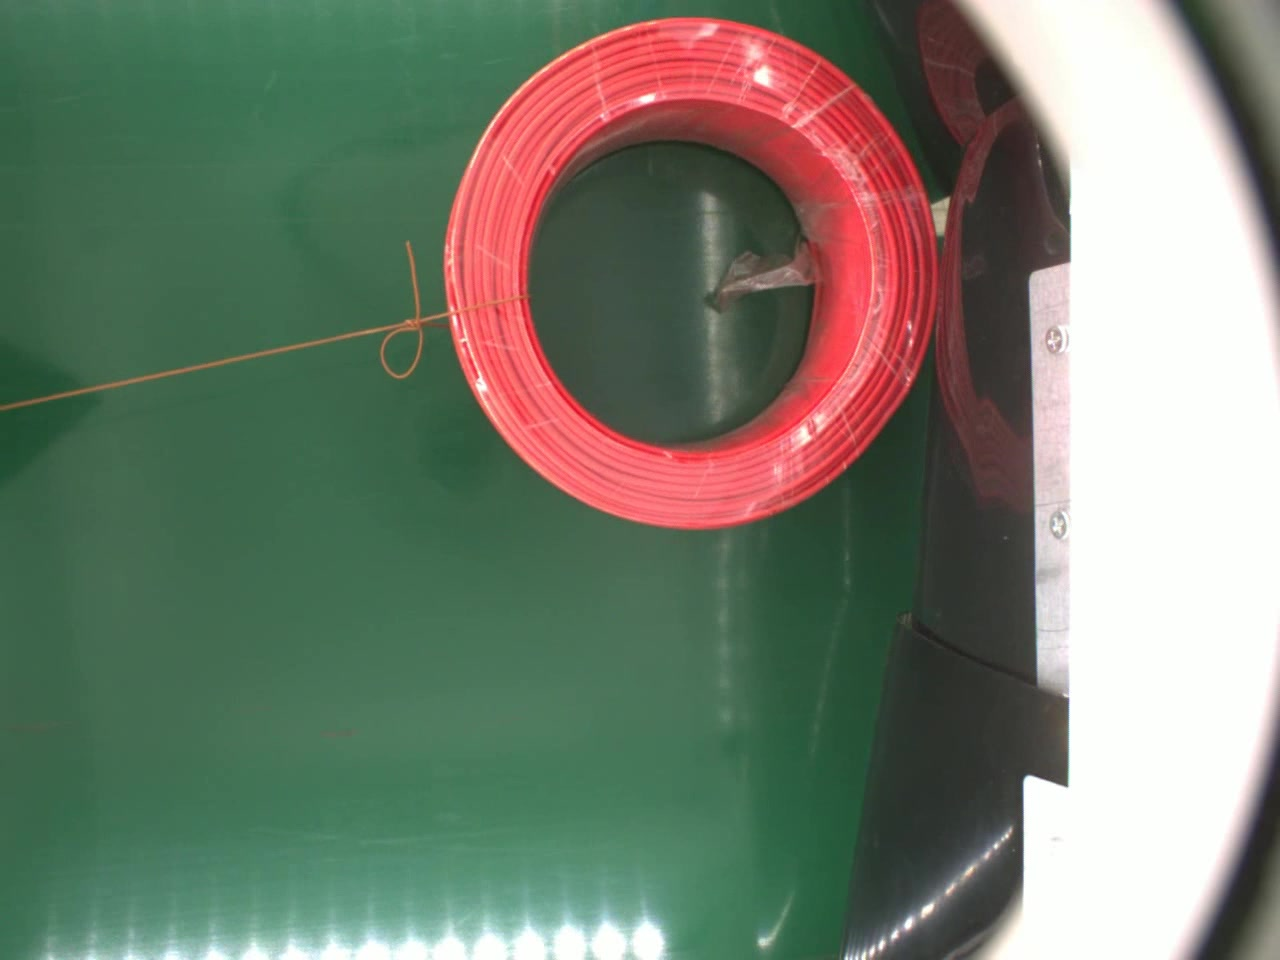red: (437, 13, 939, 538)
